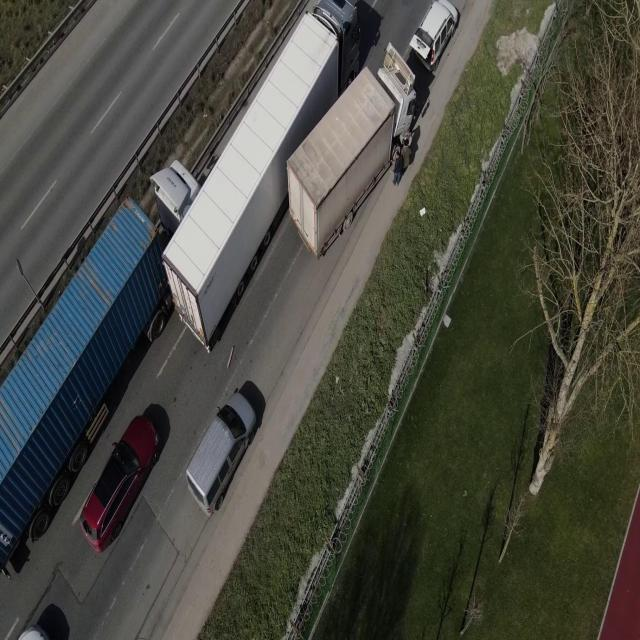p3rson: (391, 148, 403, 187), (400, 137, 411, 176), (401, 128, 413, 148)
